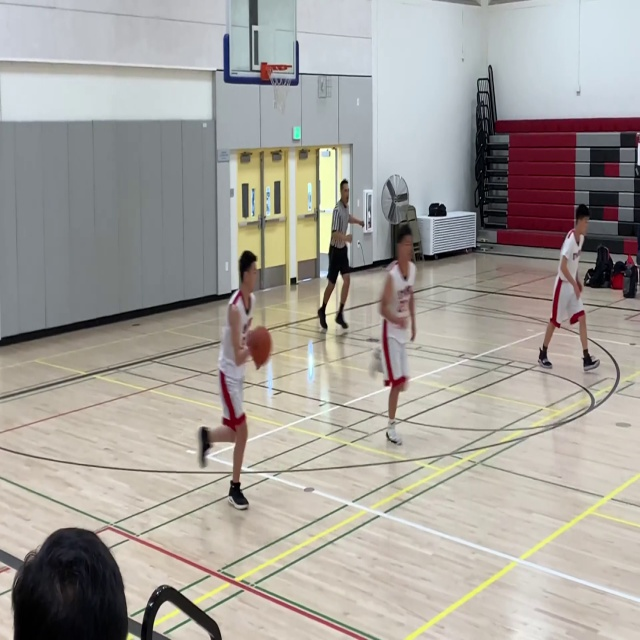Basketball: (246, 326, 272, 369)
